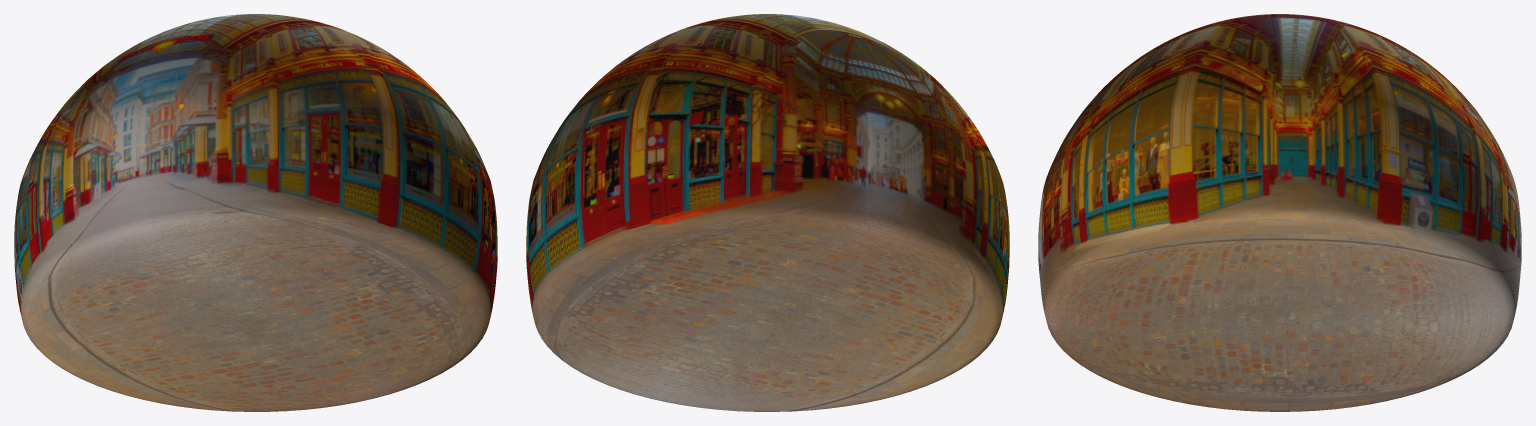
The picture shows the model from 3 angles, left to right: view 1: azimuth 30°, elevation 25°; view 2: azimuth 150°, elevation 25°; view 3: azimuth 270°, elevation 25°; orthographic projection.
Visible parts, largest first — view 1: レドンホール・マーケット_mesh; view 2: レドンホール・マーケット_mesh; view 3: レドンホール・マーケット_mesh.
Part boxes in pixels (left/top/right/bottom): レドンホール・マーケット_mesh: left=14, top=14, right=497, bottom=411; レドンホール・マーケット_mesh: left=526, top=14, right=1009, bottom=411; レドンホール・マーケット_mesh: left=1038, top=14, right=1521, bottom=411.
Size of the model in its own units: 17.55 by 11.22 by 17.55.
Materials: 1 (1 with a texture image).
